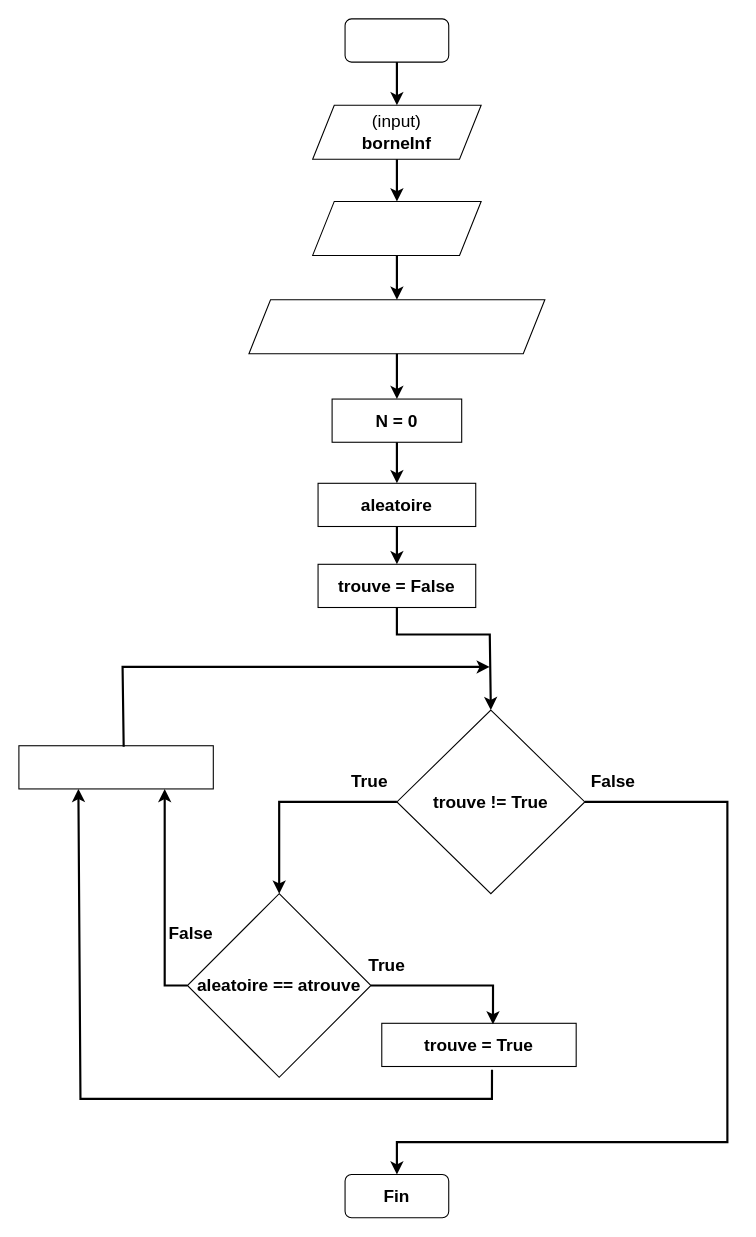
Image size: 756x1237. Some labels were removed from this diagram. Here are the shapes that lost their labels. From the top down, the box of each, then its label:
(344, 18, 449, 62): Début
(312, 200, 481, 255): (input) borneSup
(248, 299, 545, 354): (input) Nombre à trouver : atrouver
(18, 745, 213, 789): N = N + 1
